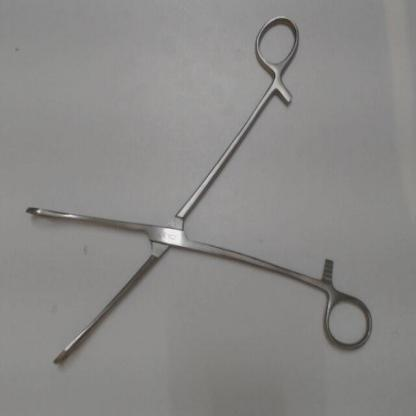Sponge Forceps: (18, 8, 378, 378)
